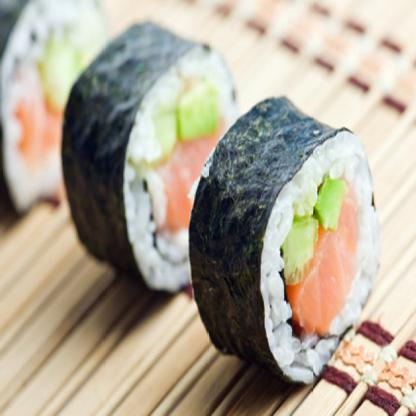futomaki: (180, 85, 390, 391)
